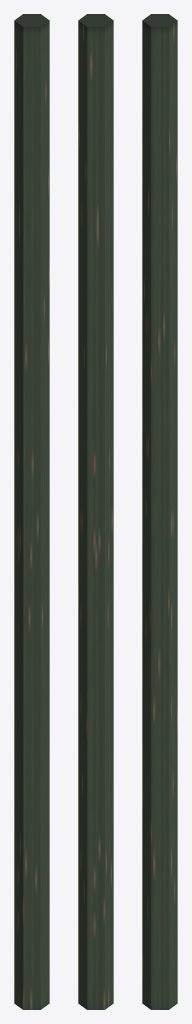
Rendered from SM_Forest_Fence_Post_10x10x200.fbx.
3 views of the same model, side by side, from view 1: azimuth 90°, elevation 25°; view 2: azimuth 150°, elevation 25°; view 3: azimuth 270°, elevation 25° (orthographic).
Visible parts, largest first — view 1: SM_Forest_Fence_Post_10x10x200.002; view 2: SM_Forest_Fence_Post_10x10x200.002; view 3: SM_Forest_Fence_Post_10x10x200.002.
Boxes of the visible parts, x1=… form: SM_Forest_Fence_Post_10x10x200.002: x1=14, y1=14, x2=49, y2=1009; SM_Forest_Fence_Post_10x10x200.002: x1=78, y1=14, x2=113, y2=1009; SM_Forest_Fence_Post_10x10x200.002: x1=142, y1=14, x2=177, y2=1009.
Bounding box in the file's own units: 0.0606 × 2.15 × 0.07.
